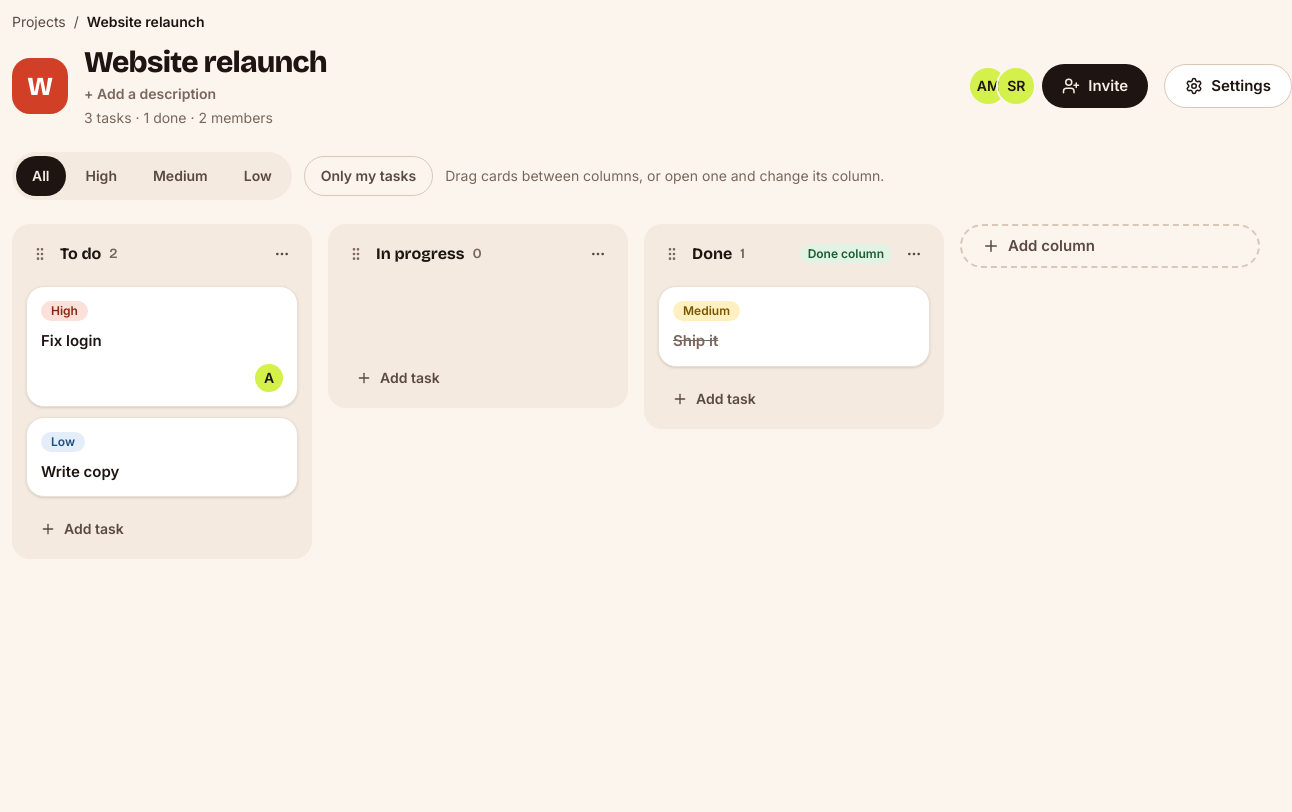
BoardContent › Esc cancels the inline description, and members never see the add link
Click the button "+ Add a description": x=150, y=94 [84,84,216,104]
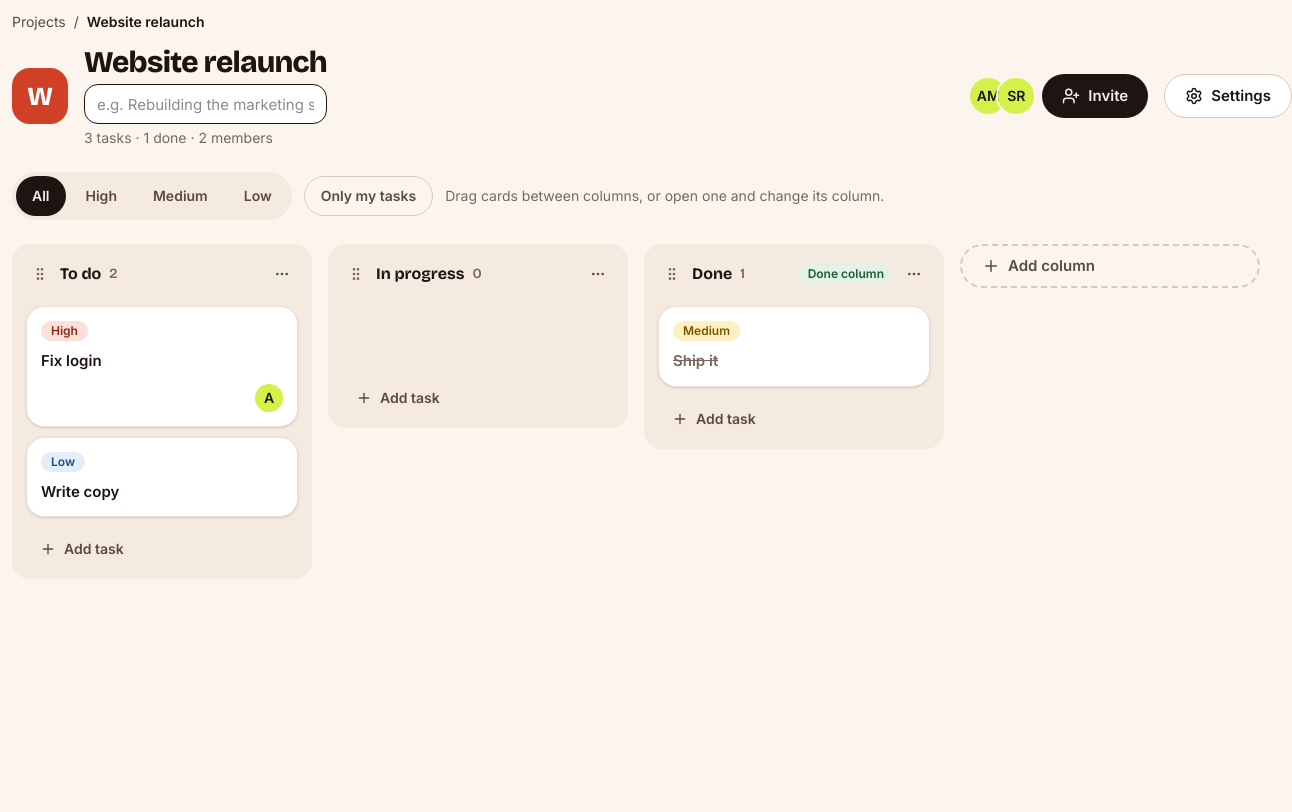
Press Escape
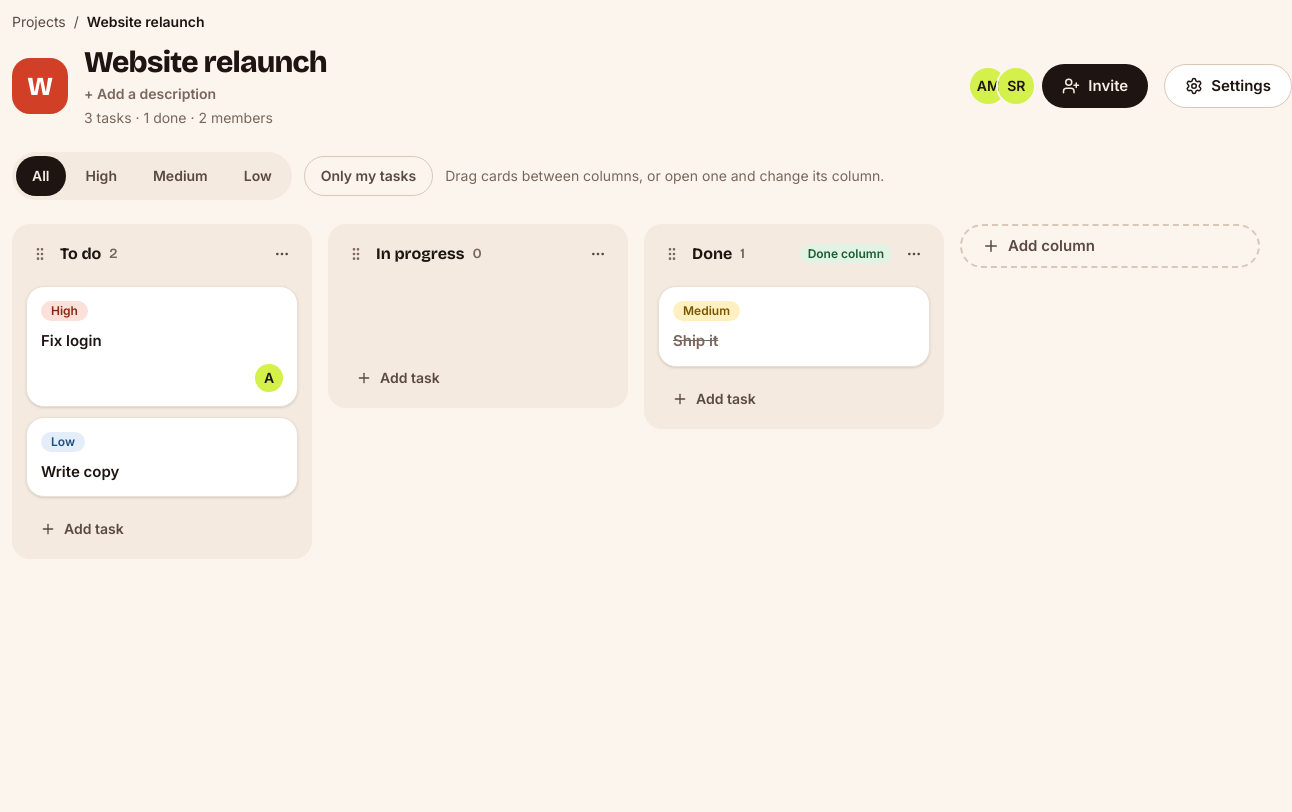
Expected: the button "+ Add a description" is shown, [84,84,216,104]
